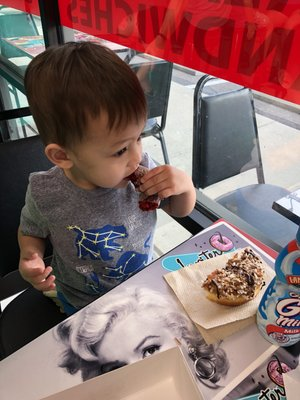curry: (12, 181, 299, 398)
pasta: (192, 75, 265, 192), (134, 60, 173, 165)
salad: (201, 248, 265, 307)
